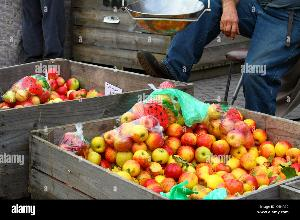apple: (57, 99, 299, 213), (0, 60, 116, 114)
